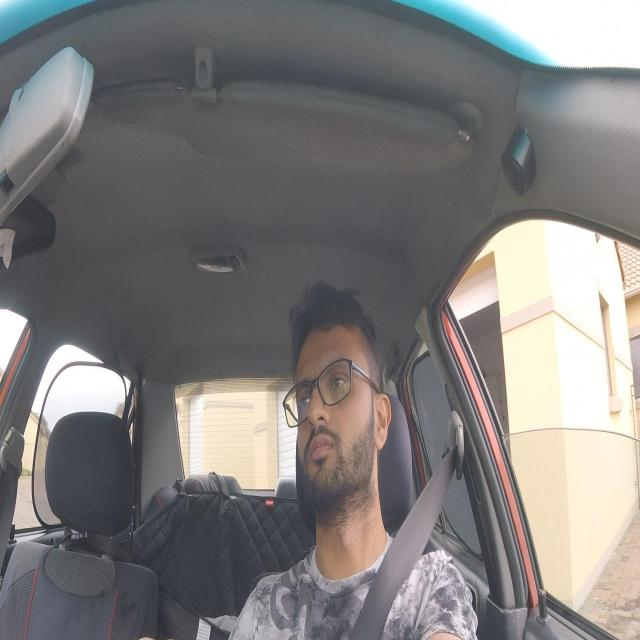open: (326, 355, 353, 405), (296, 375, 314, 420)
